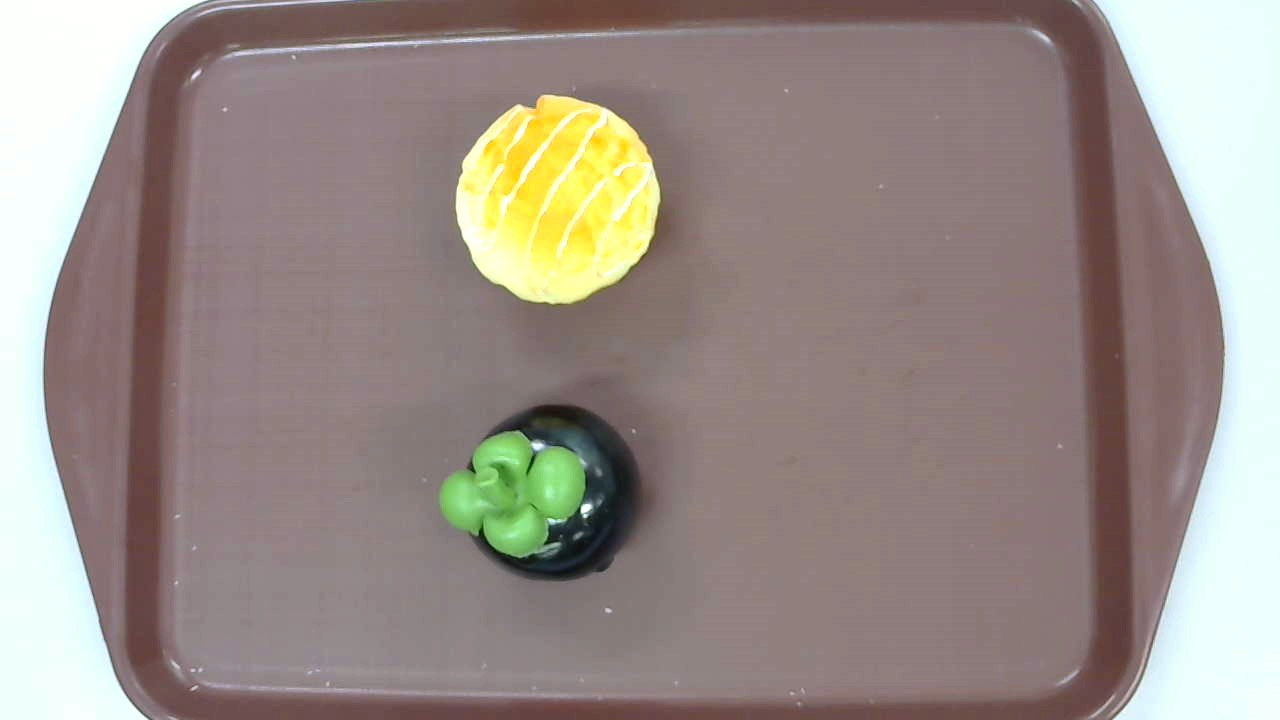cupcake: (455, 93, 661, 306)
mangosteen: (439, 403, 645, 581)
